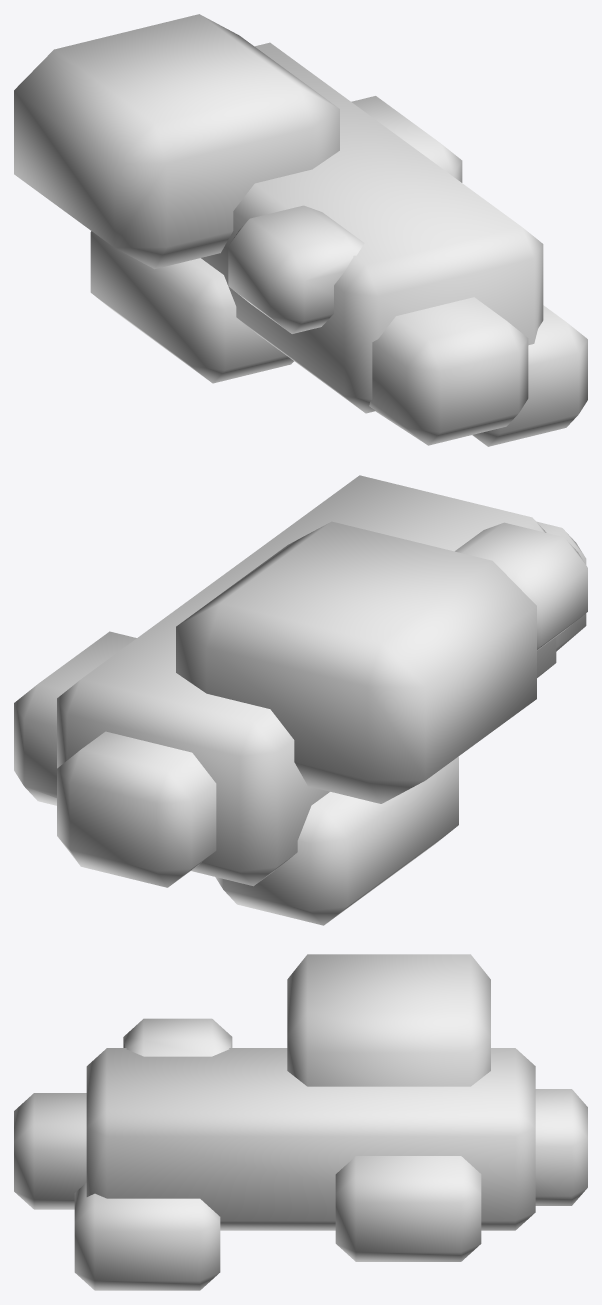
Rendered from Cloud_2.fbx.
3 renders of one model, top to bottom at view 1: azimuth 30°, elevation 25°; view 2: azimuth 150°, elevation 25°; view 3: azimuth 270°, elevation 25°, orthographic. The views are drawn at different scales.
Visible parts, largest first — view 1: Cloud_2; view 2: Cloud_2; view 3: Cloud_2.
Part boxes in pixels (box(x1,y1,x2,y2)): Cloud_2: box(14, 14, 587, 446); Cloud_2: box(14, 475, 587, 925); Cloud_2: box(14, 954, 587, 1290).
Size of the model in its own units: 1080 by 758 by 1752.
